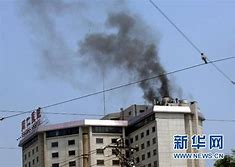smoke: (83, 15, 169, 98)
